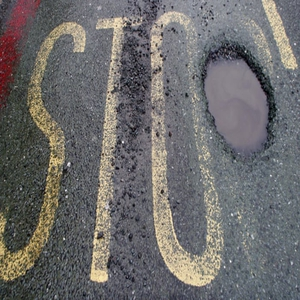pothole: (198, 38, 278, 164)
